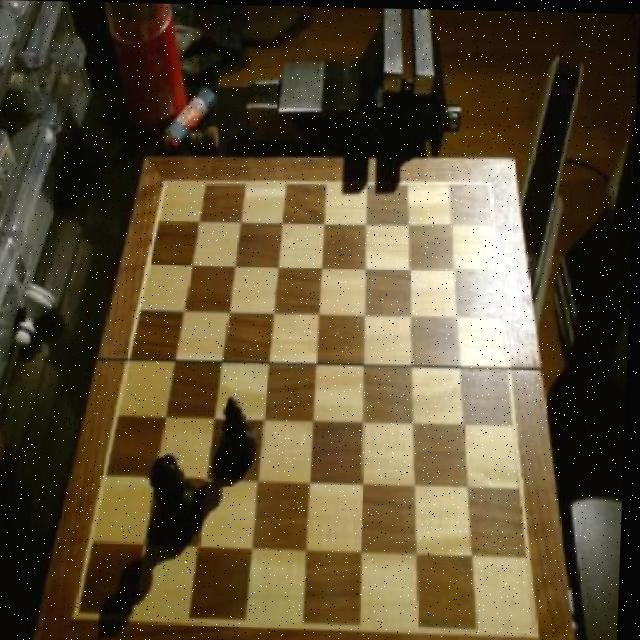bishop: (217, 386, 264, 479)
black-pawn: (147, 451, 209, 547)
